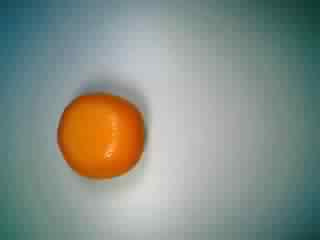orange: (51, 80, 146, 182)
